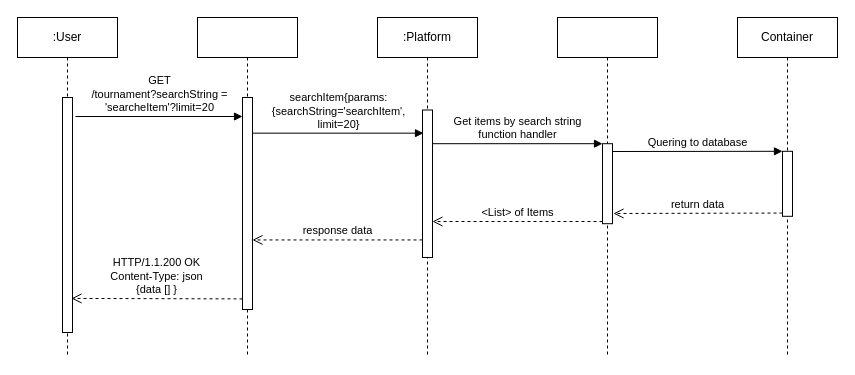
This 855x375 diagram has some shape labels left out. The box of each missing label's shape, as (x1, y1, x2, y2) in pixels:
:API Gateway: (196, 16, 298, 358)
Container Manager: (556, 16, 658, 358)
